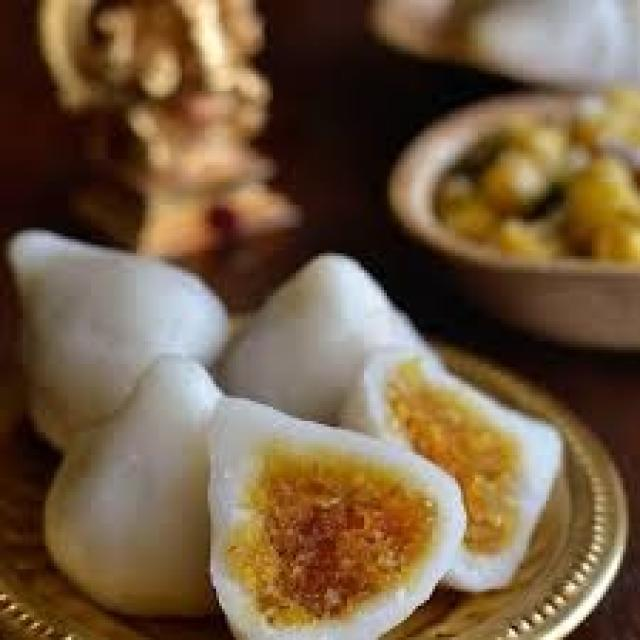poorna kolukattai: (2, 186, 587, 630)
